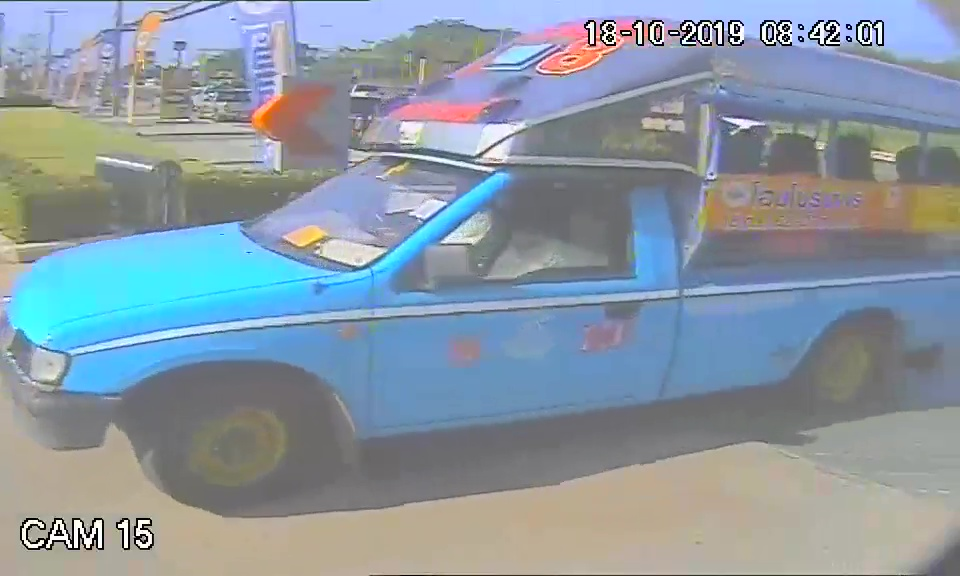pickup: (8, 138, 958, 501)
